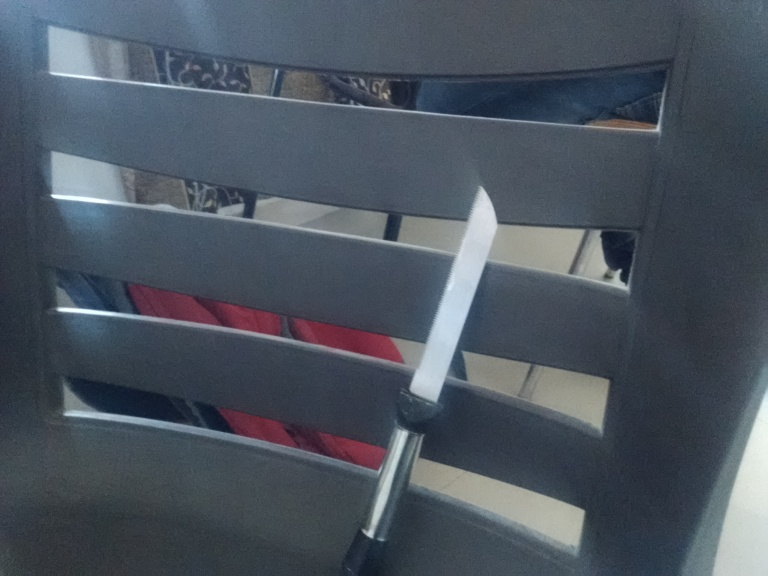knife: (335, 186, 500, 576)
